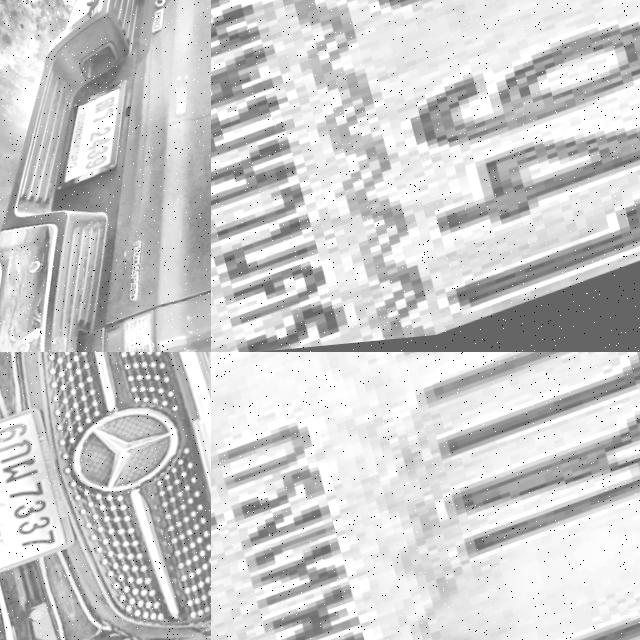license-plate: (211, 0, 640, 352), (211, 352, 640, 640), (31, 83, 148, 200), (0, 410, 73, 586)
